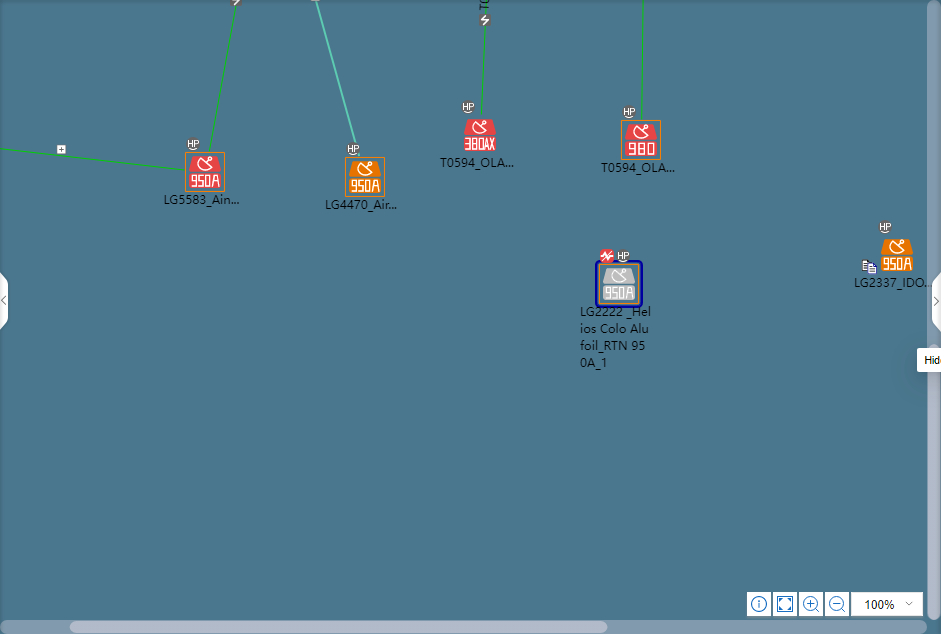Link_Blue: (314, 1, 361, 156)
Link_Green: (0, 147, 184, 171), (208, 6, 237, 152), (479, 0, 488, 116), (640, 1, 644, 120)
RTN_Gray: (600, 266, 637, 303)
RTN_Orange: (348, 159, 384, 194), (881, 240, 913, 271)
RTN_Red: (186, 155, 223, 190), (622, 123, 659, 157), (464, 119, 495, 151)
